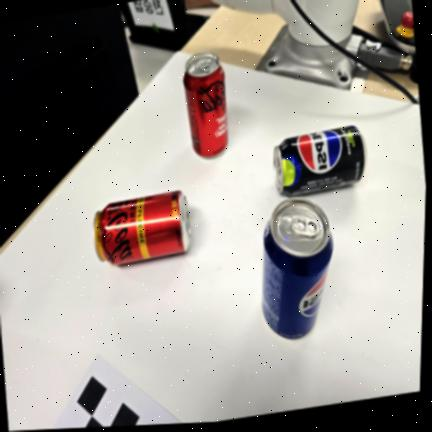can_coke_decaf: (94, 191, 190, 265)
can_coke_zero: (184, 53, 228, 158)
can_pepsi: (262, 198, 333, 339)
can_pepsi_zero: (273, 126, 366, 196)
